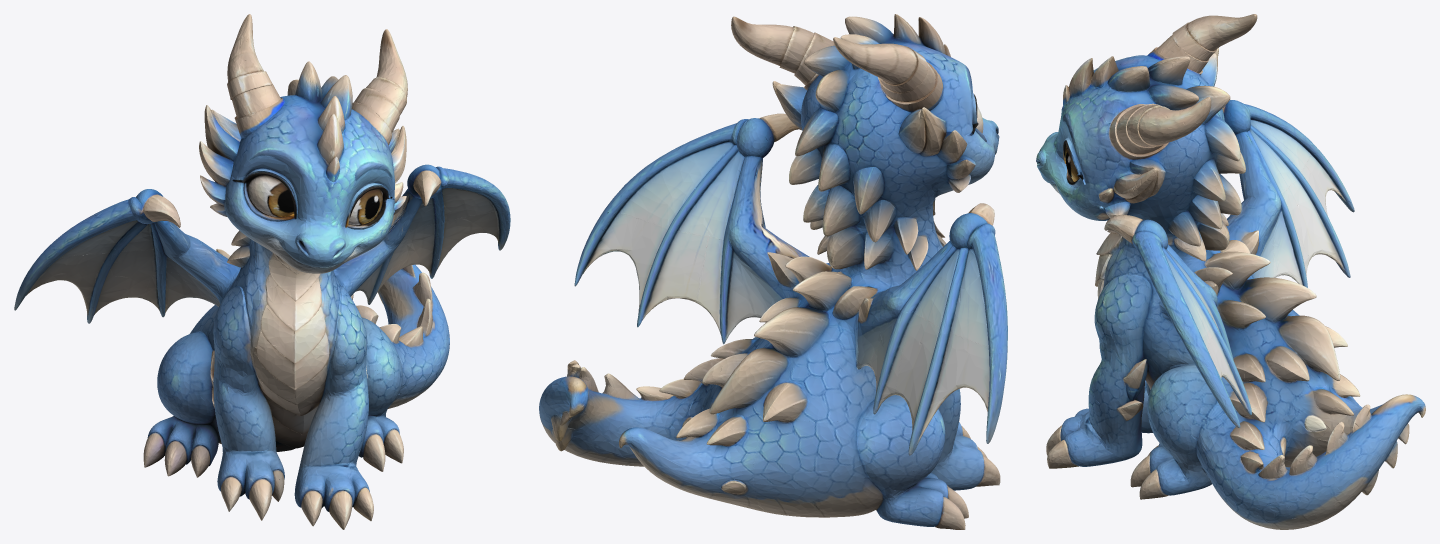
The model's file is comparison-hi3d-pro.glb.
The picture shows the model from 3 angles, left to right: view 1: azimuth 30°, elevation 25°; view 2: azimuth 150°, elevation 25°; view 3: azimuth 270°, elevation 25°; orthographic projection. The views are drawn at different scales.
Parts seen in each view (by area): view 1: tmpn0ysb108.obj; view 2: tmpn0ysb108.obj; view 3: tmpn0ysb108.obj.
Boxes of the visible parts, x1,y1,x2,y2 form: tmpn0ysb108.obj: (14,14,510,529); tmpn0ysb108.obj: (539,14,1007,529); tmpn0ysb108.obj: (1036,14,1425,529).
Size of the model in its own units: 1.72 by 1.66 by 1.32.
1 material, 1 textured.
